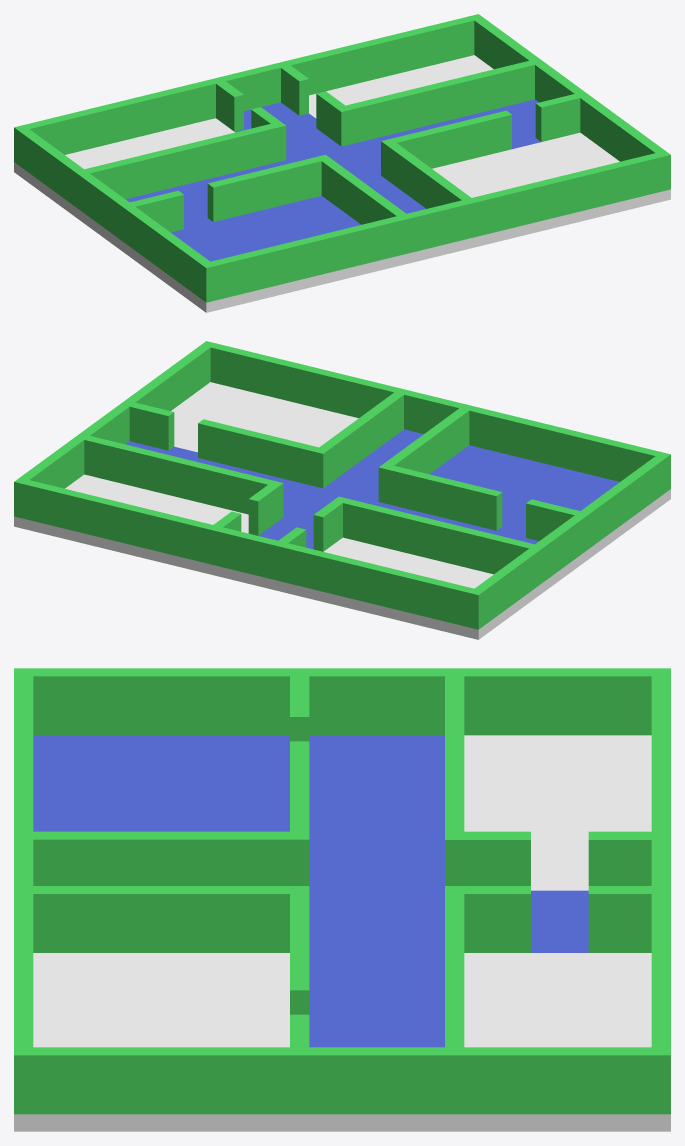
3 views of the same model, one above another, from view 1: azimuth 30°, elevation 25°; view 2: azimuth 150°, elevation 25°; view 3: azimuth 270°, elevation 25° (orthographic). The views are drawn at different scales.
Visible parts, largest first — view 1: Block_All; view 2: Block_All; view 3: Block_All.
Part boxes in pixels (<box>): Block_All: <box>14,14,670,312</box>; Block_All: <box>14,341,670,639</box>; Block_All: <box>14,668,670,1131</box>.
Bounding box in the file's own units: 47.64 × 4.39 × 34.17.
